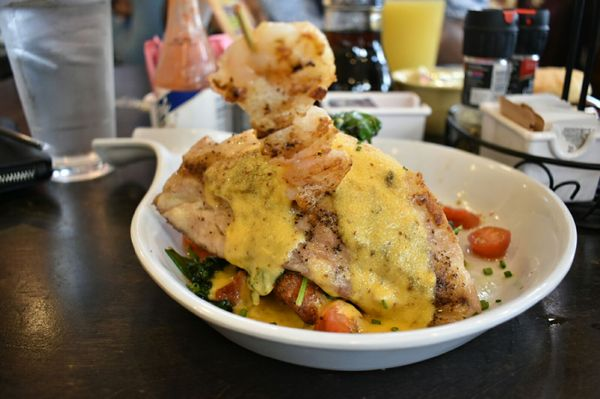sushi: (130, 101, 579, 375)
